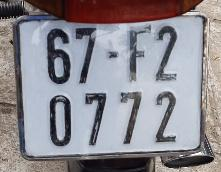0: (43, 90, 77, 150)
2: (154, 19, 182, 87), (150, 88, 182, 147)
6: (44, 25, 72, 91)
7: (73, 22, 102, 86), (114, 87, 143, 147), (82, 87, 109, 150)
F: (121, 20, 153, 86)
